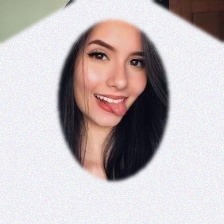Mukena: (1, 28, 224, 224)
